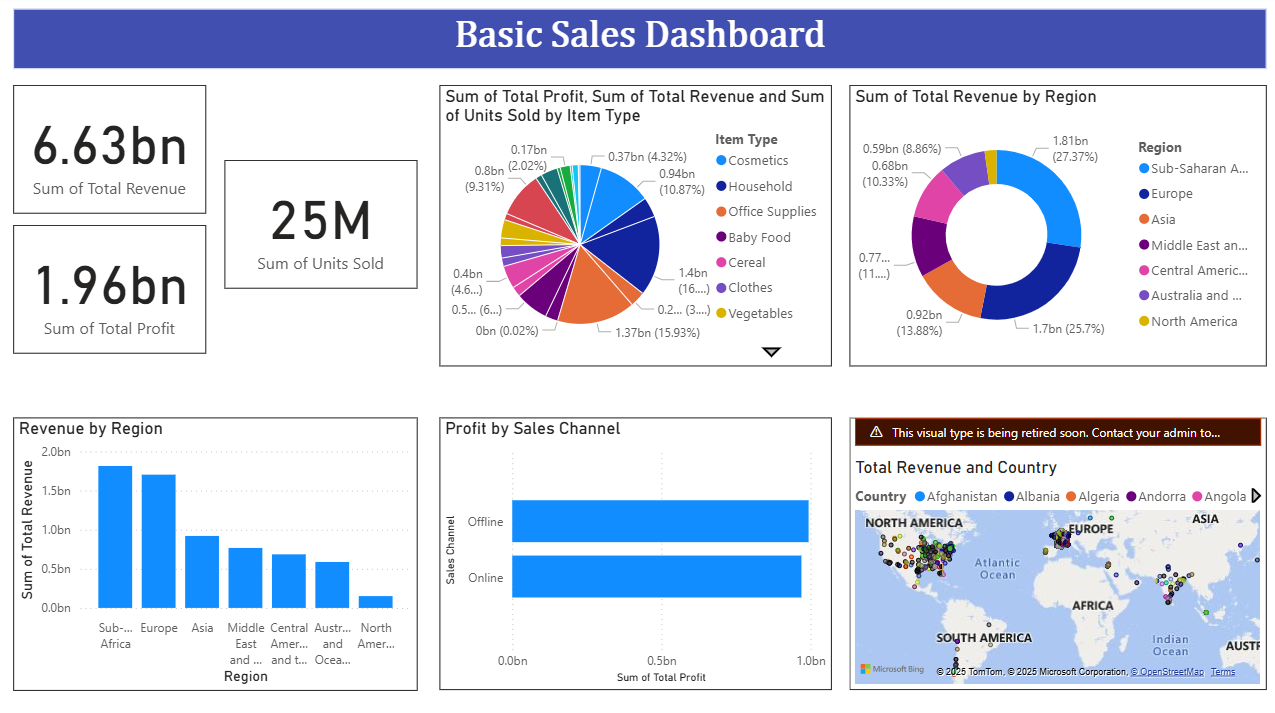

The dashboard page shown, as its layout file describes it:
{"tool":"powerbi","page":{"name":"Page 1","canvas":[1280,720],"ordinal":0},"visuals":[{"type":"textbox","box":[16.5,13.7,1247.3,60.4],"z":0},{"type":"card","fields":{"Values":["Sum(5000 Sales Records.Total Revenue)"]},"box":[16.5,89.2,192.1,127.6],"z":1000},{"type":"card","fields":{"Values":["Sum(5000 Sales Records.Total Profit)"]},"box":[16.5,229.2,192.1,127.6],"z":2000},{"type":"card","fields":{"Values":["Sum(5000 Sales Records.Units Sold)"]},"box":[226.4,164.7,192.1,127.6],"z":3000},{"type":"columnChart","title":"Revenue by Region","fields":{"Category":["5000 Sales Records.Region"],"Y":["Sum(5000 Sales Records.Total Revenue)"]},"box":[16.5,419.9,402.1,271.7],"z":4000},{"type":"barChart","title":"Profit by Sales Channel","fields":{"Category":["5000 Sales Records.Sales Channel"],"Y":["Sum(5000 Sales Records.Total Profit)"]},"box":[440.4,420.5,390.6,271.2],"z":5000},{"type":"pieChart","fields":{"Category":["5000 Sales Records.Item Type"],"Y":["Sum(5000 Sales Records.Total Profit)","Sum(5000 Sales Records.Total Revenue)","Sum(5000 Sales Records.Units Sold)"]},"box":[440.4,89.6,390.6,279.9],"z":6000},{"type":"donutChart","fields":{"Category":["5000 Sales Records.Region"],"Y":["Sum(5000 Sales Records.Total Revenue)"]},"box":[848.4,89.6,415.5,279.9],"z":7000},{"type":"map","fields":{"Series":["5000 Sales Records.Country"],"Category":["5000 Sales Records.Total Revenue","5000 Sales Records.Total Profit","5000 Sales Records.Units Sold"]},"box":[848.4,420.5,415.5,271.2],"z":8000}]}

Visuals, with their boxes in screenshot pixels (x1, y1, x2, y2), scaled from the page's 1280x720 canvas onto the 1275x713 screenshot:
textbox: <box>16,14,1259,73</box>
card - Sum(5000 Sales Records.Total Revenue): <box>16,88,208,215</box>
card - Sum(5000 Sales Records.Total Profit): <box>16,227,208,353</box>
card - Sum(5000 Sales Records.Units Sold): <box>226,163,417,289</box>
"Revenue by Region" columnChart: <box>16,416,417,685</box>
"Profit by Sales Channel" barChart: <box>439,416,828,685</box>
pieChart - 5000 Sales Records.Item Type x Sum(5000 Sales Records.Total Profit): <box>439,89,828,366</box>
donutChart - 5000 Sales Records.Region x Sum(5000 Sales Records.Total Revenue): <box>845,89,1259,366</box>
map - 5000 Sales Records.Country x 5000 Sales Records.Total Revenue: <box>845,416,1259,685</box>
